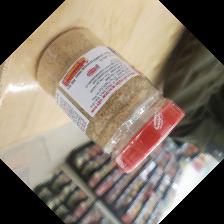Hao_hao: (35, 28, 185, 175)
